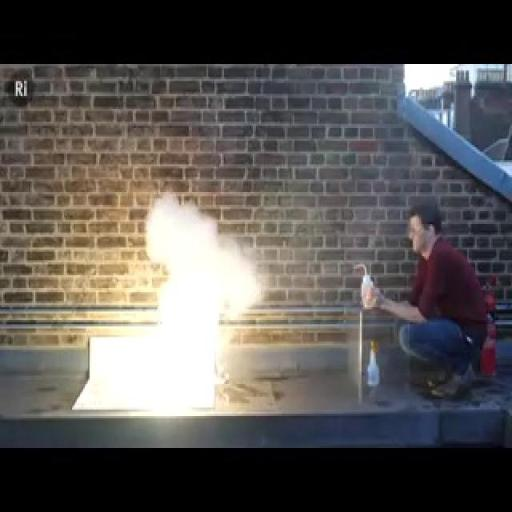smoke: (120, 333, 202, 416)
